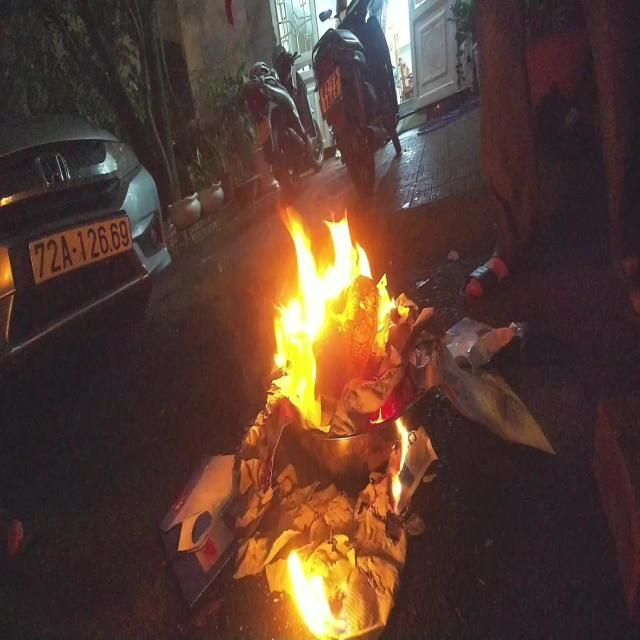Fire: (274, 188, 409, 438), (286, 548, 351, 640), (392, 415, 409, 512)
